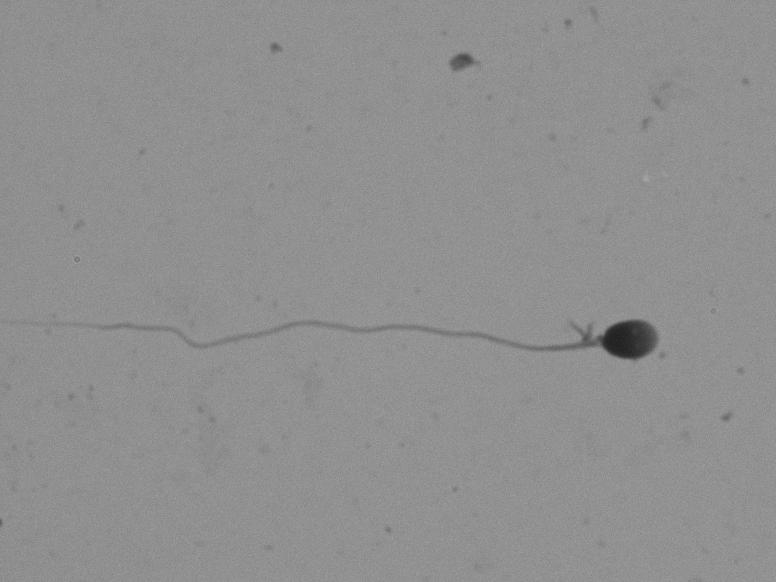Normal: (2, 234, 700, 433)
